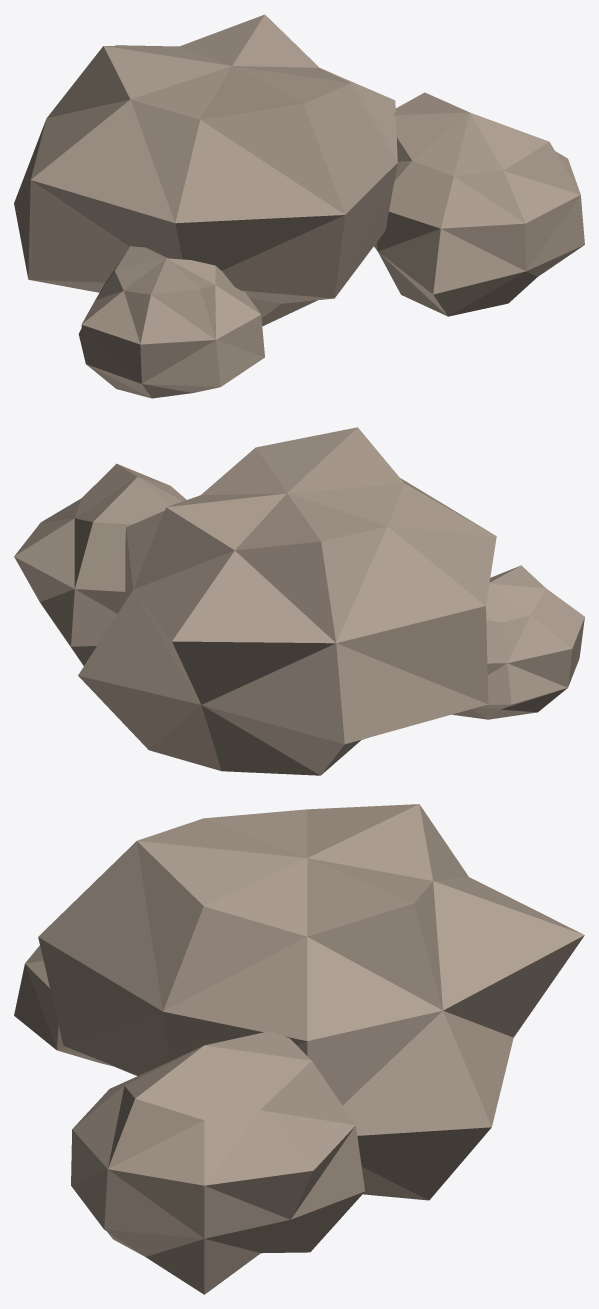
The model's file is rock_round2.obj.
The picture shows the model from 3 angles, top to bottom: view 1: azimuth 30°, elevation 25°; view 2: azimuth 150°, elevation 25°; view 3: azimuth 270°, elevation 25°; orthographic projection. The views are drawn at different scales.
Bounding box in the file's own units: 3.42 × 1.85 × 2.78.
